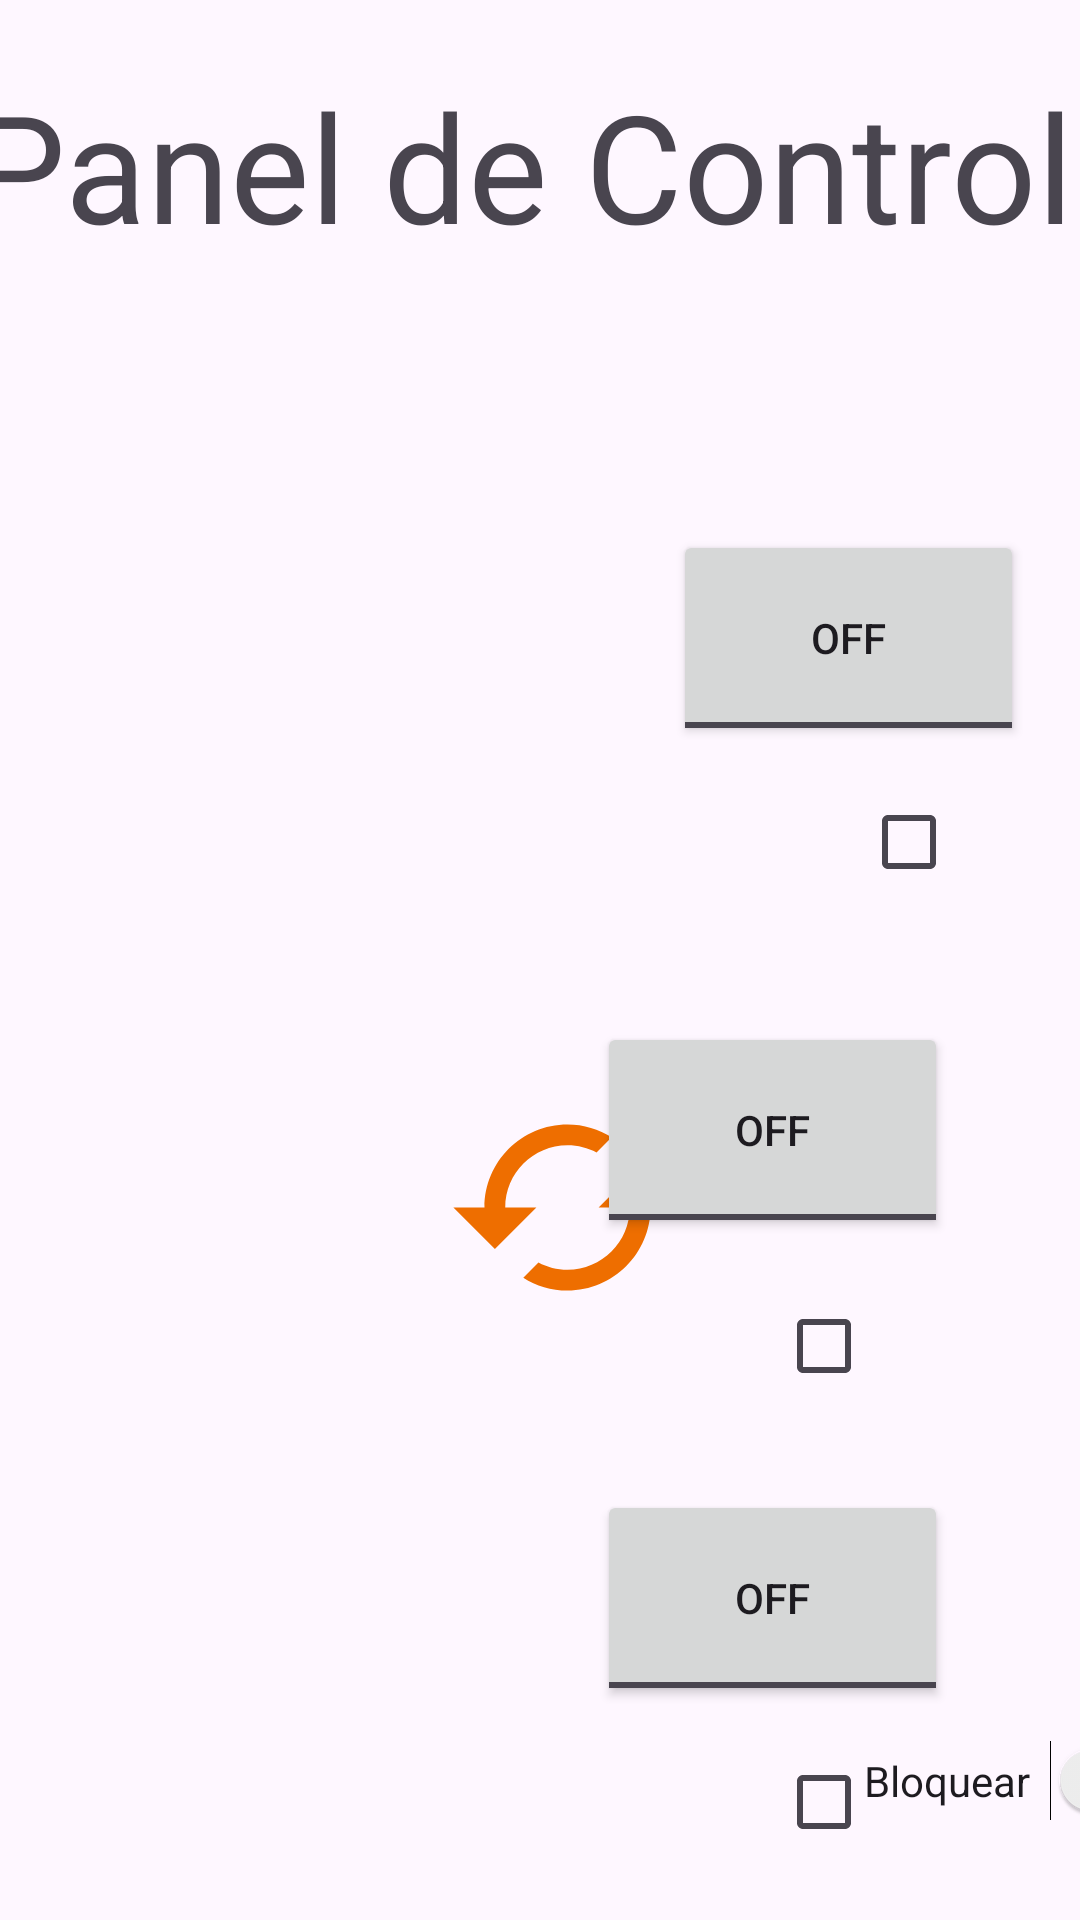

Icons on this 1080 × 1920 Android screen, each with the point to tap as point (x, y):
cached: point (581, 1187)
